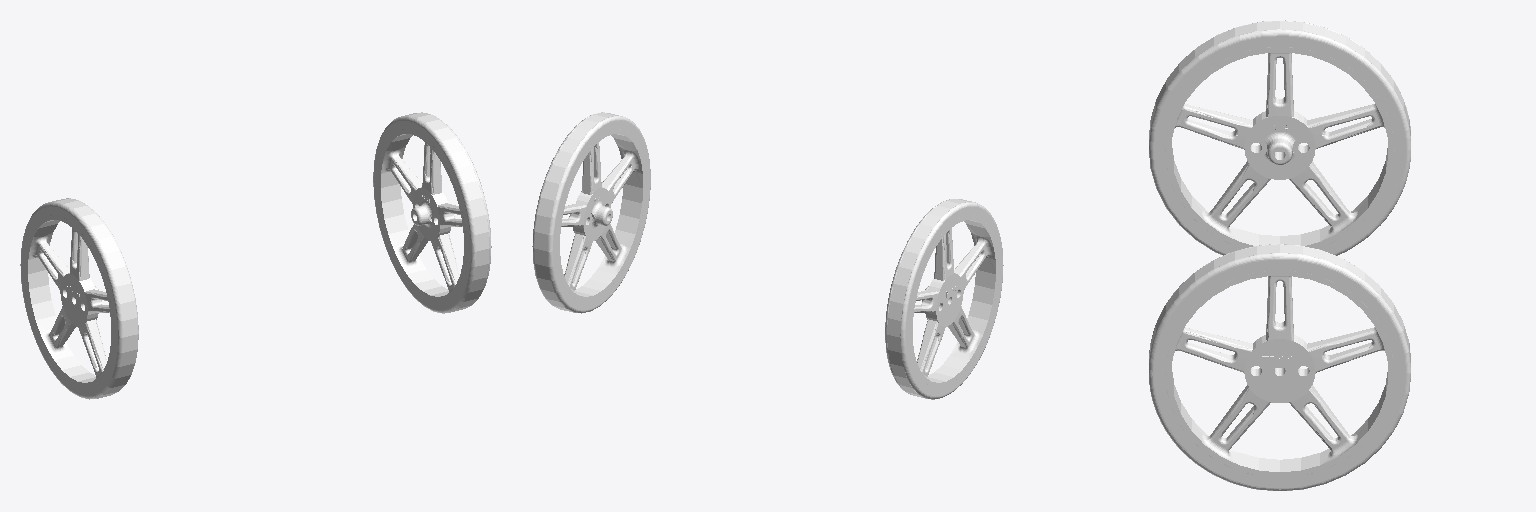
The robot description file, URDF, robot "romi":
<?xml version="1.0"?>
     <robot name="romi">

<!-- ~~~~~~~~~~~~~~~~ LINKS ~~~~~~~~~~~~~~~~ -->
<!-- LINK 1: CHASSIS BASE -->
<link name="chassis">
<origin xyz="0 0 0" rpy="0 0 0"/>
     <!-- COLLISION OF CHASSIS BASE -->
     <collision name="chassis_collision">
          <origin xyz="0 0 0" rpy="0 0 0"/>
          <geometry>
               <cylinder length="0.0195" radius="0.0815"/>
          </geometry>
     </collision>
     <!-- VISUAL OF CHASSIS BASE -->
     <visual name="chassis_visual">
          <origin xyz="0 0 0" rpy="0 0 0"/>
          <geometry>
               <mesh filename="model://romi/meshes/romi_base.dae"/>
          </geometry>
     </visual>
     <!-- INERTIA OF CHASSIS BASE -->
     <inertial name="chassis_inertia">
          <mass value="0.160"/>
          <inertia
               ixx="0.1"      ixy="0.0"      ixz="0.0"
               iyy="0.1"      iyz="0.0"      izz="0.1"/>
     </inertial>

<!-- FRONT CASTER -->
     <!-- COLLISION OF FRONT CASTER -->
     <collision name="caster_front_collision">
          <origin xyz="0 0 0" rpy="0 0 0"/>
          <geometry>
               <cylinder length="0.029" radius="0.0254"/>
          </geometry>
     </collision>
     <!-- VISUAL OF FRONT CASTER... N/A -->

<!-- FRONT CASTER BALL -->
     <!-- COLLISION OF FRONT CASTER BALL -->
     <collision name="caster_ball_front_collision">
          <origin xyz="0 0 0" rpy="0 0 0"/>
          <geometry>
               <sphere radius="0.0127"/>
          </geometry>
     </collision>
     <!-- VISUAL OF FRONT CASTER BALL... N/A -->

<!-- BACK CASTER -->
     <!-- COLLISION OF BACK CASTER -->
     <collision name="caster_back_collision">
          <origin xyz="0 0 0" rpy="0 0 0"/>
          <geometry>
               <cylinder length="0.029" radius="0.0254"/>
          </geometry>
     </collision>
     <!-- VISUAL OF BACK CASTER... N/A -->

<!-- BACK CASTER BALL -->
     <!-- COLLISION OF BACK CASTER BALL -->
     <collision name="caster_back_collision">
          <origin xyz="0 0 0" rpy="0 0 0"/>
          <geometry>
               <cylinder length="0.029" radius="0.0254"/>
          </geometry>
     </collision>
     <!-- VISUAL OF BACK CASTER BALL... N/A -->
</link>

<!-- LINK 2: LEFT WHEEL -->
<link name="wheel_l">
<origin xyz="0 0 0" rpy="0 0 0"/>
     <!-- COLLISION OF LEFT WHEEL -->
     <collision name="wheel_l_collision">
          <origin xyz="0 0 0" rpy="0 0 0"/>
          <geometry>
               <cylinder length="0.008" radius="0.035"/>
          </geometry>
     </collision>
     <!-- VISUAL OF LEFT WHEEL -->
     <visual name="wheel_l_visual">
          <origin xyz="0 0 0" rpy="0 0 0"/>
          <geometry>
               <mesh filename="model://romi/meshes/romi_wheel_left.dae"/>
          </geometry>
     </visual>
     <!-- INERTIA OF LEFT WHEEL -->
     <inertial name="wheel_l_inertia">
          <mass value="0.141748"/>
          <inertia
               ixx="0.0000441663143"      ixy="0.0"      ixz="0.0"
               iyy="0.0000441663143"      iyz="0.0"      izz="0.00008682065"/>
     </inertial>
</link>

<!-- LINK 3: RIGHT WHEEL -->
<link name="wheel_r">
<origin xyz="0 0 0" rpy="0 0 0"/>
     <!-- COLLISION OF RIGHT WHEEL -->
     <collision name="wheel_r_collision">
          <origin xyz="0 0 0" rpy="0 0 0"/>
          <geometry>
               <cylinder length="0.008" radius="0.035"/>
          </geometry>
     </collision>
     <!-- VISUAL OF RIGHT WHEEL -->
     <visual name="wheel_r_visual">
          <origin xyz="0 0 0" rpy="0 0 0"/>
          <geometry>
               <mesh filename="model://romi/meshes/romi_wheel_right.dae"/>
          </geometry>
     </visual>
     <!-- INERTIA OF RIGHT WHEEL -->
     <inertial name="wheel_r_inertia">
          <mass value="0.141748"/>
          <inertia
               ixx="0.0000441663143"      ixy="0.0"      ixz="0.0"
               iyy="0.0000441663143"      iyz="0.0"      izz="0.00008682065"/>
     </inertial>
</link>

<!-- ~~~~~~~~~~~~~~~~ JOINTS ~~~~~~~~~~~~~~~~ -->
<!-- JOINT 1: LEFT WHEEL -->
<joint name="wheel_l_joint" type="continuous">
     <origin xyz="0 0 0" rpy="0 0 0"/>
     <parent link="chassis"/>
     <child link="wheel_l"/>
     <axis xyz="0 0 1"/>
     <limit effort="10" velocity="1.0"/>
</joint>

<!-- JOINT 2: RIGHT WHEEL -->
<joint name="wheel_r_joint" type="continuous">
     <origin xyz="0 0 0" rpy="0 0 0"/>
     <parent link="chassis"/>
     <child link="wheel_r"/>
     <axis xyz="0 0 1"/>
     <limit effort="10" velocity="1.0"/>
</joint>
<!-- ~~~~~~~~~~~~~~~~ GAZEBO REFERENCES ~~~~~~~~~~~~~~~~ -->
<!-- GAZEBO REFERENCE 1: LEFT WHEEL -->
<gazebo reference="wheel_l">
     <mu1 value="0"/>
     <mu2 value="0"/>
</gazebo>

<!-- GAZEBO REFERENCE 2: RIGHT WHEEL -->
<gazebo reference="wheel_r">
     <mu1 value="0"/>
     <mu2 value="0"/>
</gazebo>
<!-- ~~~~~~~~~~~~~~~~ TRANSMISSIONS ~~~~~~~~~~~~~~~~ -->
<!-- LEFT WHEEL TRANSMISSION -->
<transmission name="wheel_l_trans">
     <type>transmission_interface/SimpleTransmission</type>
     <actuator name="wheel_l_motor">
          <mechanicalReduction>1</mechanicalReduction>
     </actuator>
     <joint name="wheel_l_joint">
          <hardwareInterface>VelocityJointInterface</hardwareInterface>
     </joint>
</transmission>

<!-- RIGHT WHEEL TRANSMISSION -->
<transmission name="wheel_r_trans">
     <type>transmission_interface/SimpleTransmission</type>
     <actuator name="wheel_r_motor">
          <mechanicalReduction>1</mechanicalReduction>
     </actuator>
     <joint name="wheel_r_joint">
          <hardwareInterface>VelocityJointInterface</hardwareInterface>
     </joint>
</transmission>
<!-- ~~~~~~~~~~~~~~~~ PLUG-INS ~~~~~~~~~~~~~~~~ -->
<gazebo>
     <plugin name="gazebo_ros_control" filename="libgazebo_ros_control.so">
          <robotNamespace>/</robotNamespace>
     </plugin>
</gazebo>
</robot>

--- Facts derived from the render (not from the file) ---
Views: 3 orthographic renders of the robot side by side, from view 1: azimuth 30°, elevation 25°; view 2: azimuth 150°, elevation 25°; view 3: azimuth 270°, elevation 25°.
Robot: romi — 3 links, 2 joints (2 continuous); root link chassis; default pose: every joint at zero.
Links seen in each view (by area): view 1: wheel_l, wheel_r; view 2: wheel_l, wheel_r; view 3: wheel_l, wheel_r.
Boxes of the visible links, box(x1,y1,x2,y2) form: wheel_l: box(373, 112, 491, 313); wheel_r: box(20, 198, 138, 399); wheel_l: box(532, 112, 650, 313); wheel_r: box(885, 199, 1003, 399); wheel_l: box(1149, 244, 1410, 490); wheel_r: box(1149, 20, 1410, 255).
Size in the robot's own frame: 0.1488 by 0.07 by 0.07 metres.
2 mesh visuals loaded from 3 distinct referenced files (2 Collada DAE); not drawn: 1 (reference not matched to a file when rendering).